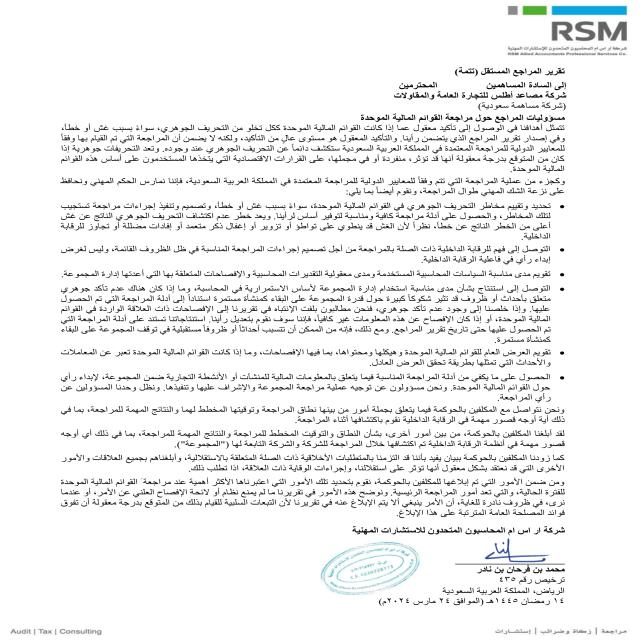auditor_report: (446, 65, 571, 78)
